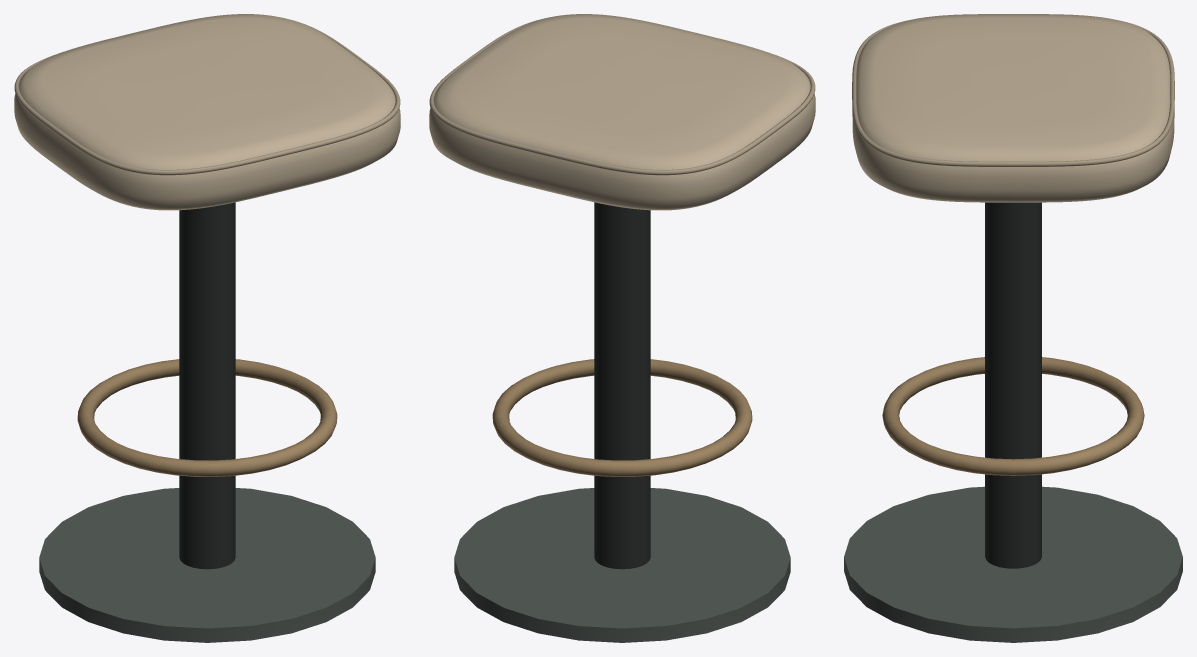
Rendered from disc-stool.glb.
The picture shows the model from 3 angles, left to right: view 1: azimuth 30°, elevation 25°; view 2: azimuth 150°, elevation 25°; view 3: azimuth 270°, elevation 25°; orthographic projection.
Parts seen in each view (by area): view 1: disc-stool; view 2: disc-stool; view 3: disc-stool.
Part boxes in pixels (left/top/right/bottom): disc-stool: left=14, top=14, right=400, bottom=642; disc-stool: left=429, top=14, right=815, bottom=642; disc-stool: left=844, top=14, right=1182, bottom=642.
Bounding box in the file's own units: 0.4606 × 0.7067 × 0.442.
